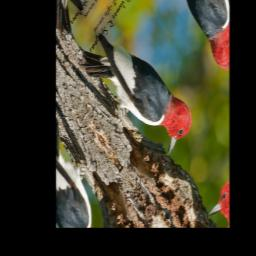Woodpecker: (75, 1, 198, 184)
